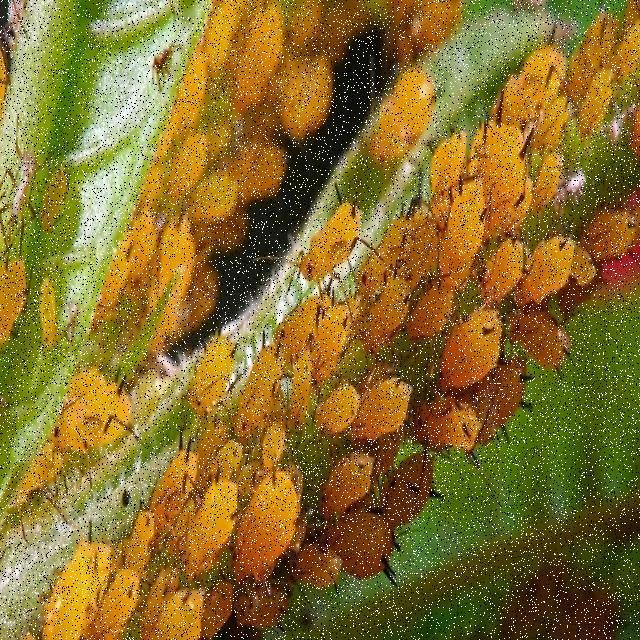Aphids: (32, 322, 130, 446), (233, 466, 303, 608), (281, 175, 378, 276), (266, 282, 359, 373), (172, 469, 258, 567), (227, 317, 295, 434), (464, 104, 539, 207), (453, 304, 513, 404), (345, 372, 430, 442), (397, 254, 458, 347), (365, 195, 432, 277), (517, 223, 584, 304), (418, 399, 488, 476), (473, 240, 541, 318), (587, 190, 639, 289), (348, 277, 409, 361), (112, 476, 159, 584), (171, 305, 224, 400), (140, 435, 205, 512), (419, 122, 482, 192), (442, 184, 491, 270), (311, 391, 373, 449), (40, 159, 78, 248)
